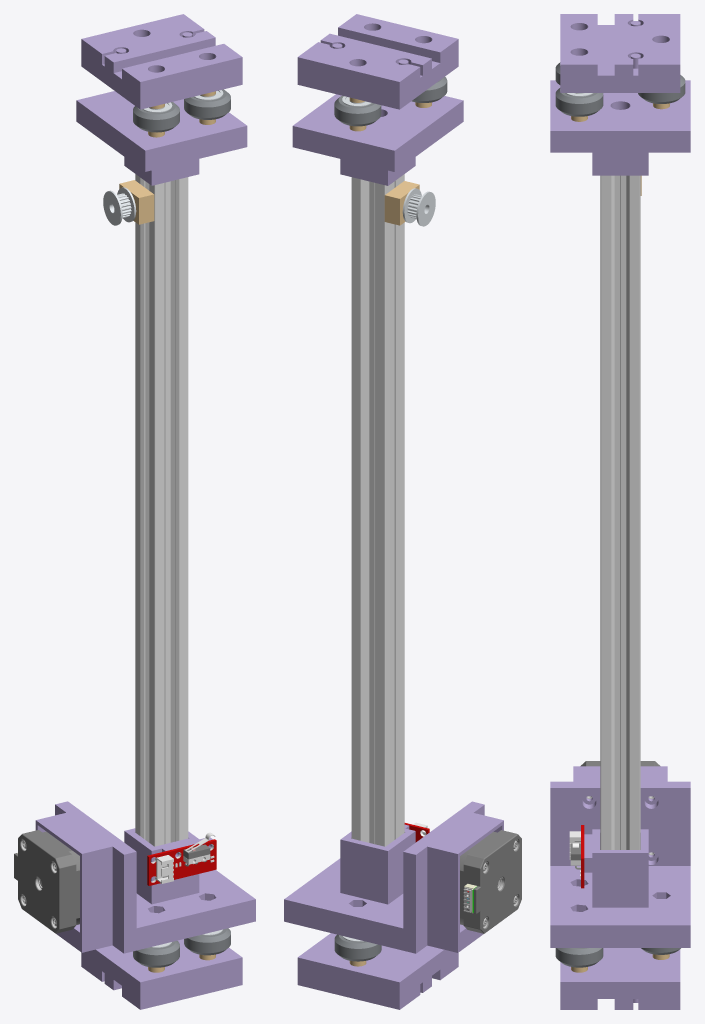
File: Axe Y.gltf
3 views of the same model, side by side, from view 1: azimuth 30°, elevation 25°; view 2: azimuth 150°, elevation 25°; view 3: azimuth 270°, elevation 25° (orthographic).
Parts seen in each view (by area): view 1: Part 1 (×5), V-Slot Linear Rail 20x20mm, 17HE12-1204S, V-SLOT WHEEL (×4), Part 2, PULLEY-GT2-6MM; view 2: Part 1 (×5), V-Slot Linear Rail 20x20mm, 17HE12-1204S, V-SLOT WHEEL (×2), PULLEY-GT2-6MM; view 3: Part 1 (×4), V-Slot Linear Rail 20x20mm, V-SLOT WHEEL (×3), Part 2.
Part boxes in pixels (x1=…): Part 1 (×5): x1=35, y1=14, x2=255, y2=1009; V-Slot Linear Rail 20x20mm: x1=135, y1=174, x2=188, y2=846; 17HE12-1204S: x1=14, y1=830, x2=79, y2=933; V-SLOT WHEEL (×4): x1=133, y1=89, x2=230, y2=967; Part 2: x1=147, y1=839, x2=216, y2=885; PULLEY-GT2-6MM: x1=103, y1=187, x2=136, y2=225; Part 1 (×5): x1=284, y1=14, x2=503, y2=1009; V-Slot Linear Rail 20x20mm: x1=351, y1=174, x2=404, y2=846; 17HE12-1204S: x1=460, y1=830, x2=521, y2=933; V-SLOT WHEEL (×2): x1=334, y1=95, x2=381, y2=961; PULLEY-GT2-6MM: x1=402, y1=188, x2=435, y2=226; Part 1 (×4): x1=550, y1=14, x2=690, y2=1009; V-Slot Linear Rail 20x20mm: x1=600, y1=175, x2=640, y2=849; V-SLOT WHEEL (×3): x1=555, y1=75, x2=685, y2=967; Part 2: x1=569, y1=825, x2=584, y2=888.
Bounding box in the file's own units: 0.1075 × 0.5208 × 0.07.
